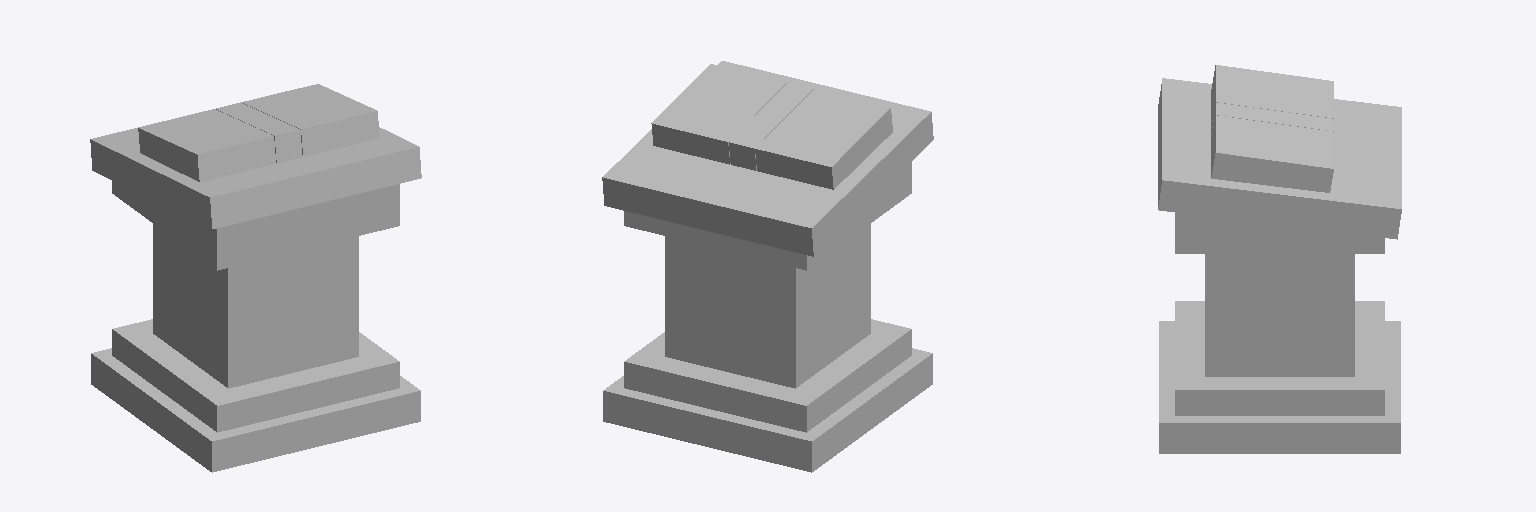
File: decoblocks_altar.obj
3 renders of one model, left to right at view 1: azimuth 30°, elevation 25°; view 2: azimuth 150°, elevation 25°; view 3: azimuth 270°, elevation 25°, orthographic.
Parts seen in each view (by area): view 1: Cube.001_Cube.002; view 2: Cube.001_Cube.002; view 3: Cube.001_Cube.002.
Part boxes in pixels (bbox=[...]): Cube.001_Cube.002: bbox=[90, 84, 421, 472]; Cube.001_Cube.002: bbox=[602, 61, 933, 472]; Cube.001_Cube.002: bbox=[1158, 65, 1401, 453].
Bounding box in the file's own units: 1.99 × 2.67 × 2.01.